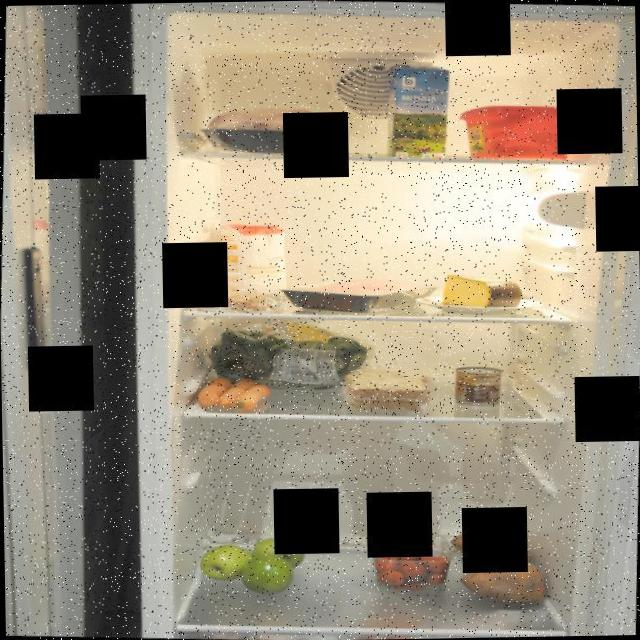Carne pollo: (200, 98, 330, 158)
Leche: (383, 58, 455, 162)
Mantequilla: (455, 99, 582, 163)
Manzana: (192, 532, 312, 598)
Queso: (439, 268, 524, 310)
Zanahoria: (192, 374, 277, 415)
